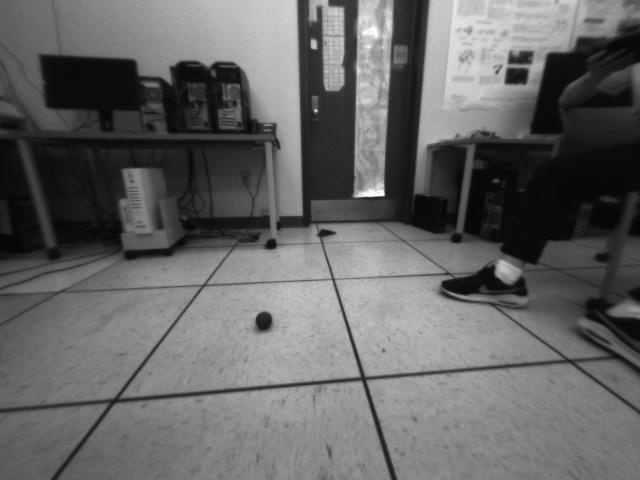dogtoy: (248, 304, 281, 336)
